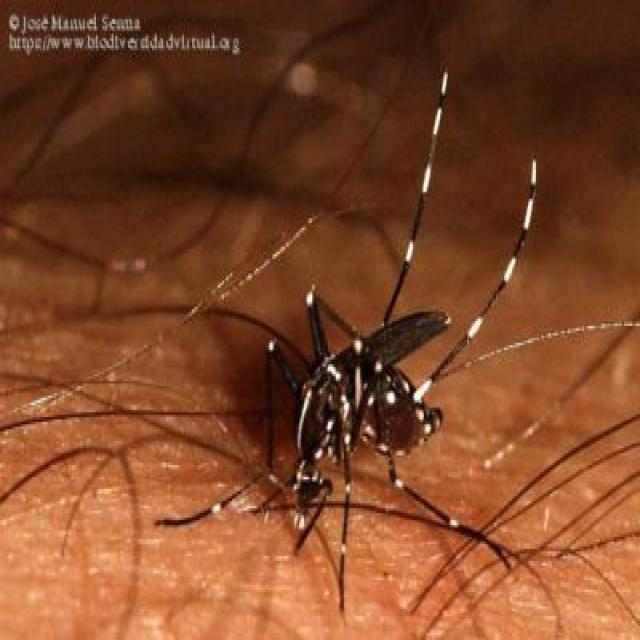body: (296, 336, 436, 500)
insect: (147, 69, 543, 596)
legs: (356, 75, 538, 397), (156, 263, 346, 531), (329, 453, 525, 607)
wings: (338, 306, 448, 384)
